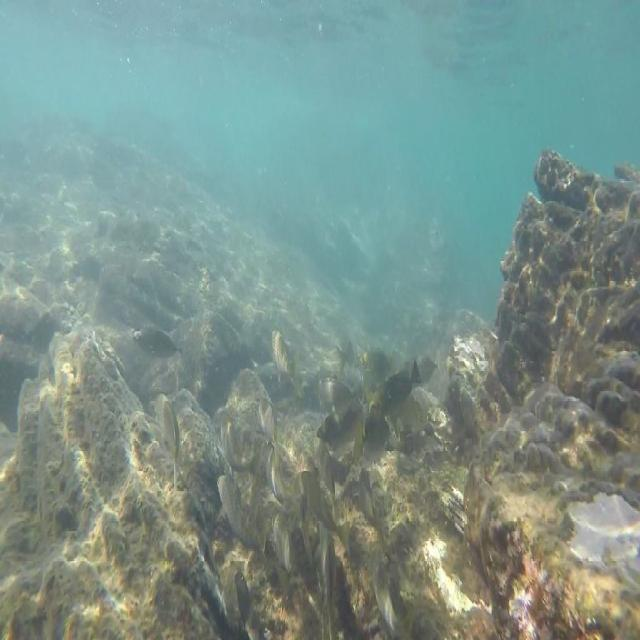Sokar Baligi: (213, 454, 298, 577)
